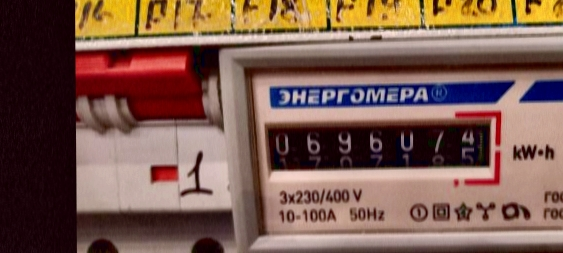0: (273, 130, 291, 155), (399, 126, 415, 152)
4: (461, 125, 475, 146)
5: (461, 147, 475, 166)
6: (304, 129, 322, 154), (368, 126, 384, 153)
7: (430, 127, 446, 153)
9: (336, 129, 353, 155)
screen: (259, 108, 505, 187)
